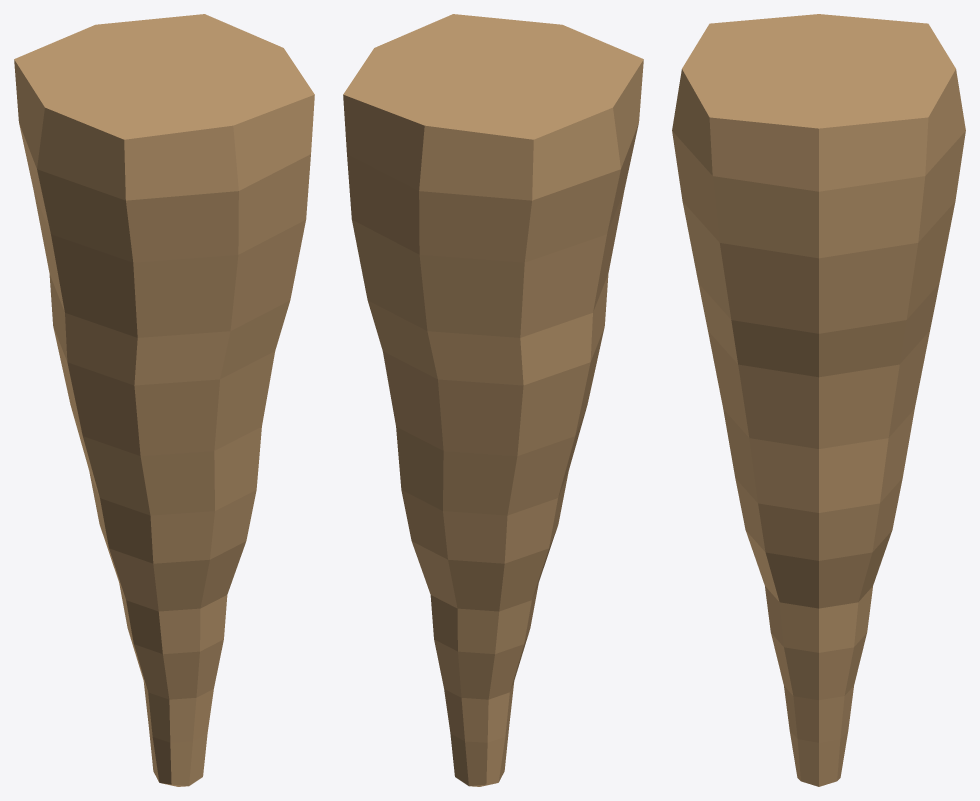
File: stalactite_big.fbx
3 renders of one model, left to right at view 1: azimuth 30°, elevation 25°; view 2: azimuth 150°, elevation 25°; view 3: azimuth 270°, elevation 25°, orthographic.
Parts seen in each view (by area): view 1: Cube.003; view 2: Cube.003; view 3: Cube.003.
Boxes of the visible parts, x1,y1,x2,y2 form: Cube.003: (14,14,314,786); Cube.003: (343,14,643,786); Cube.003: (672,14,965,786).
Bounding box in the file's own units: 112 × 300 × 112.
